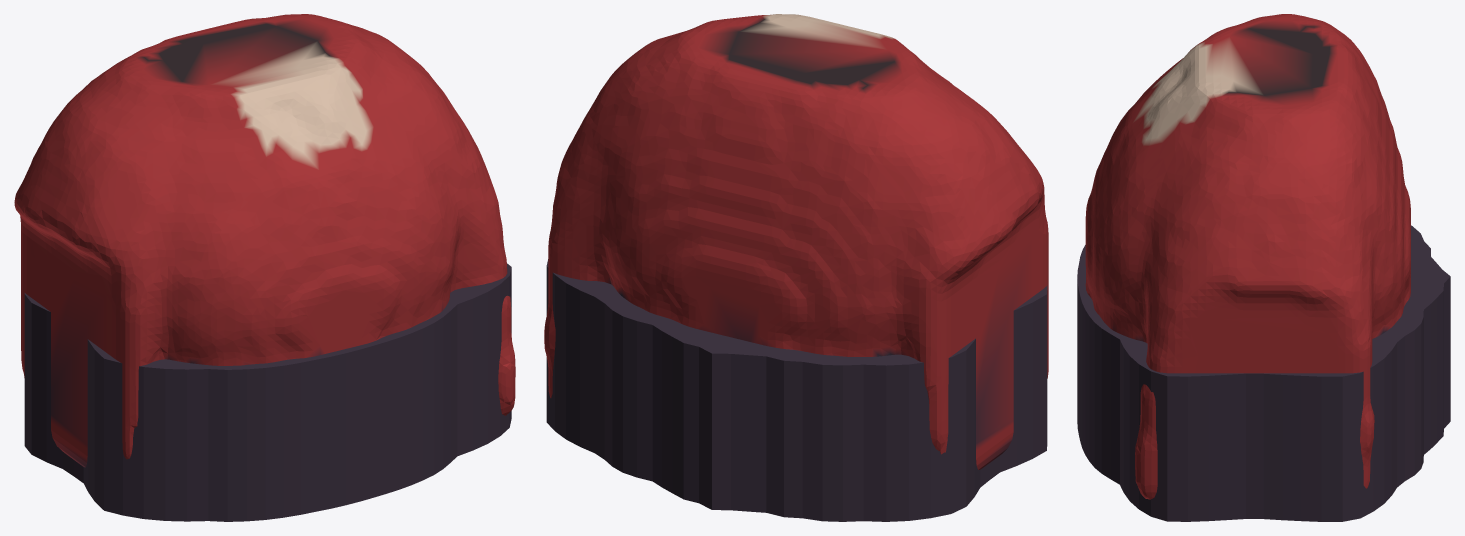
Rendered from torso.glb.
The picture shows the model from 3 angles, left to right: view 1: azimuth 30°, elevation 25°; view 2: azimuth 150°, elevation 25°; view 3: azimuth 270°, elevation 25°; orthographic projection. The views are drawn at different scales.
Visible parts, largest first — view 1: geometry_0; view 2: geometry_0; view 3: geometry_0.
Boxes of the visible parts, box(x1,y1,x2,y2) form: geometry_0: box(14, 14, 515, 521); geometry_0: box(544, 14, 1048, 521); geometry_0: box(1077, 14, 1450, 521).
Bounding box in the file's own units: 0.4173 × 0.3586 × 0.3375.
